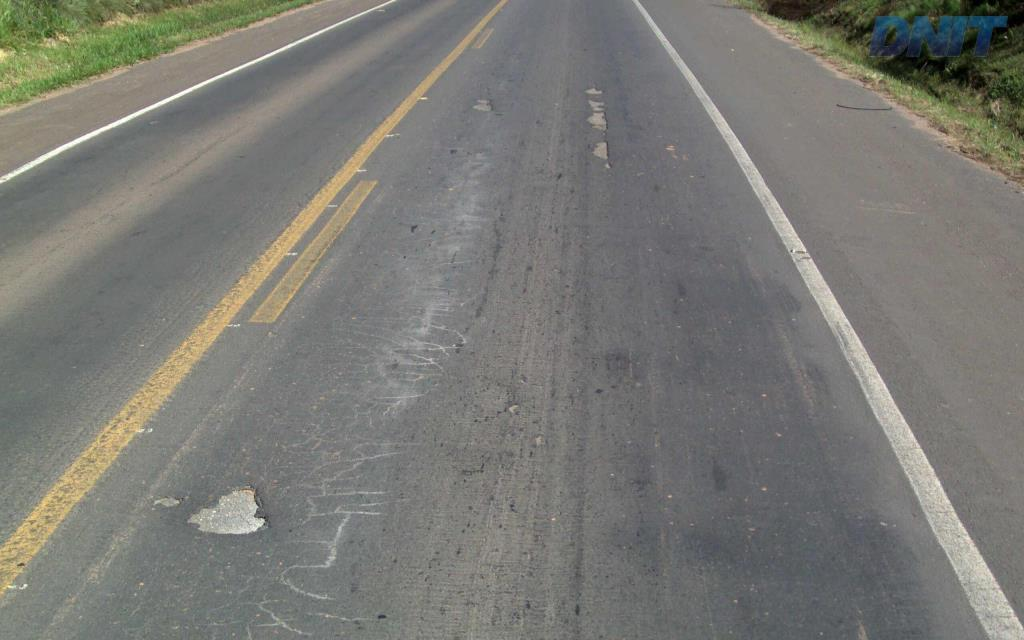pothole: (185, 484, 270, 537), (581, 84, 606, 128), (592, 138, 612, 163), (469, 95, 497, 110), (151, 495, 184, 507)
